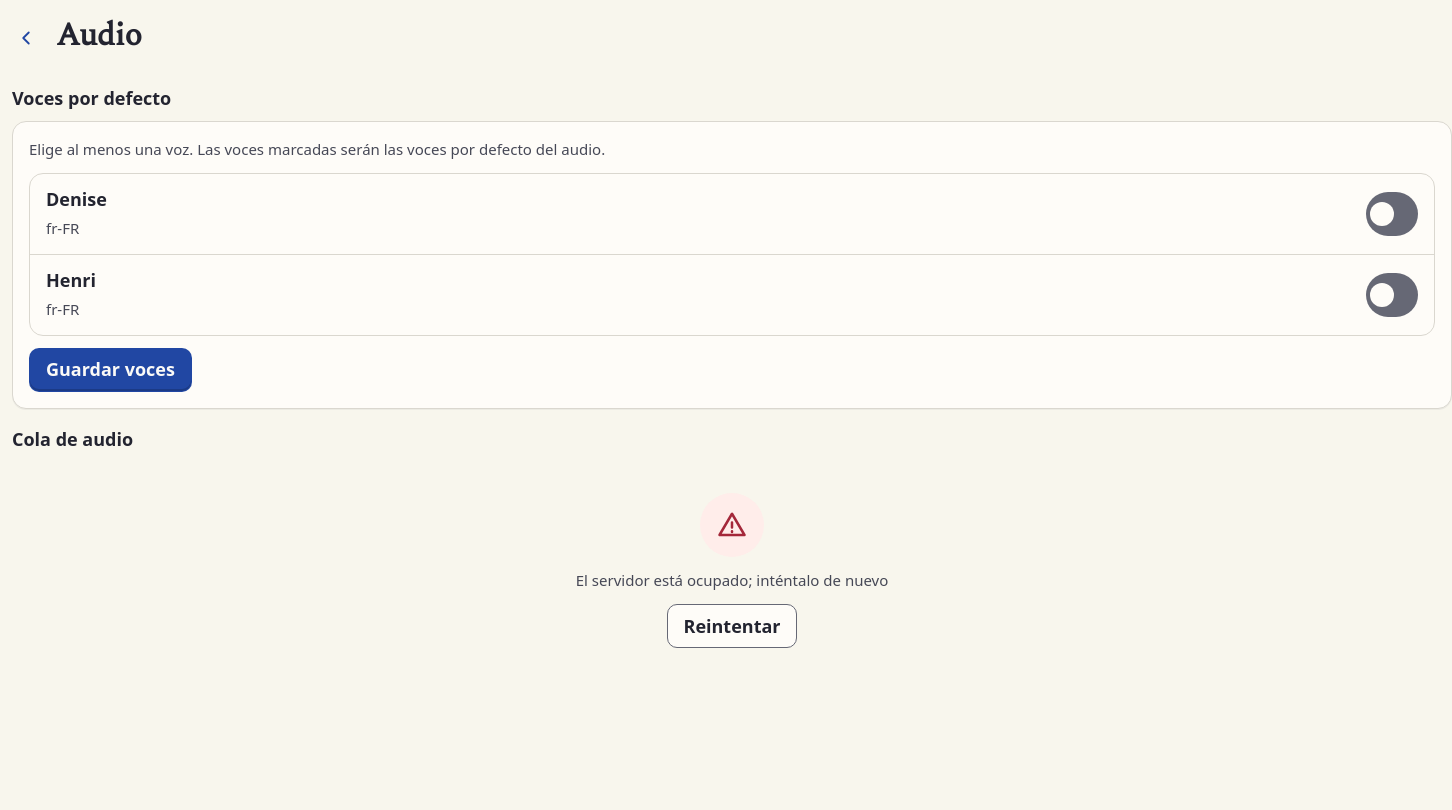
Test case: audio muestra error y Reintentar recarga
The width and height of the screenshot is (1452, 810).
Expected: the text "El servidor está ocupado; inténtalo de nuevo" is shown, [576,569,888,592]
Click the button "Reintentar".
click(732, 626)  # box [666,604,798,648]
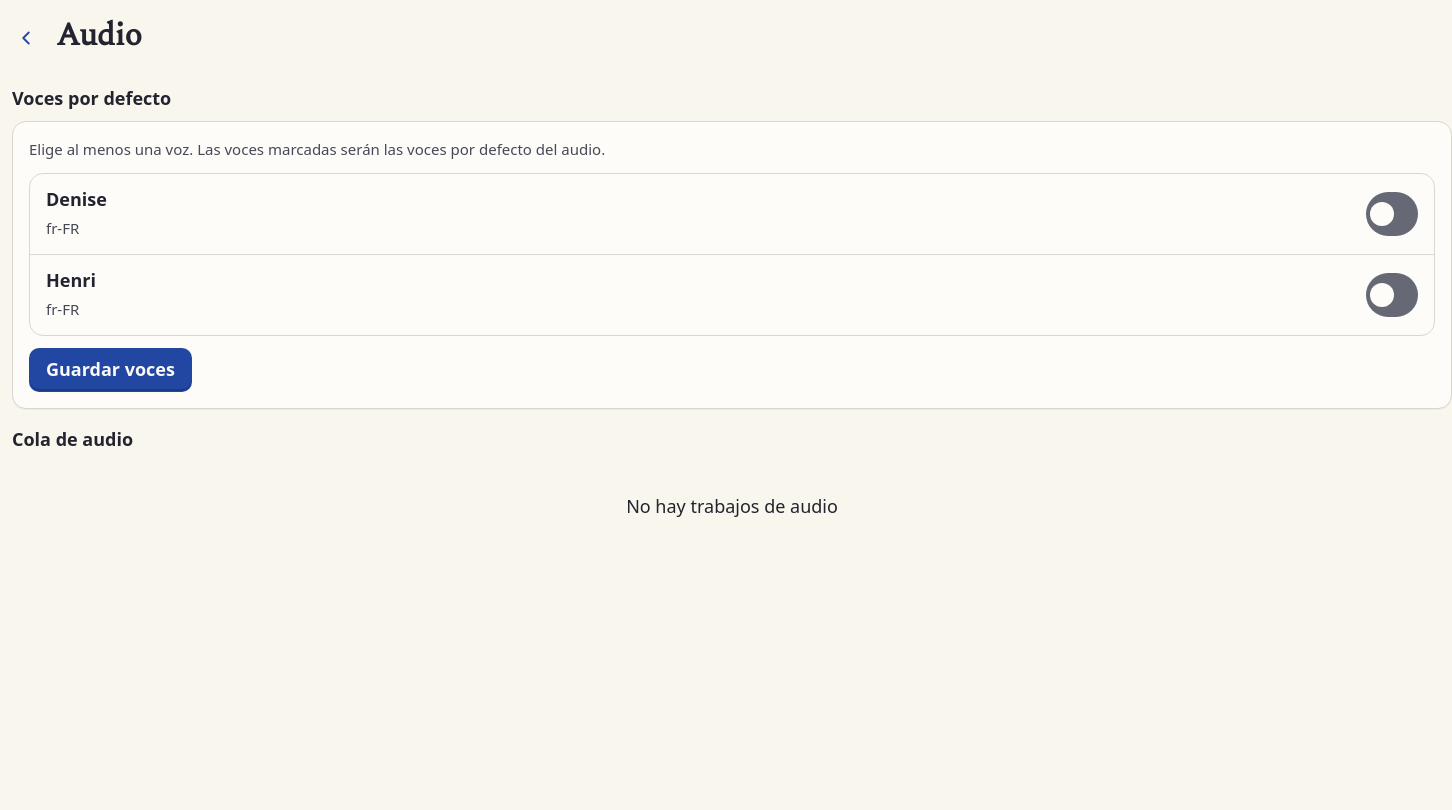
Now the text "No hay trabajos de audio" is shown, box [626,493,838,521]
